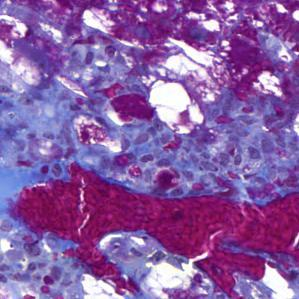ballooning: (149, 81, 208, 139)
